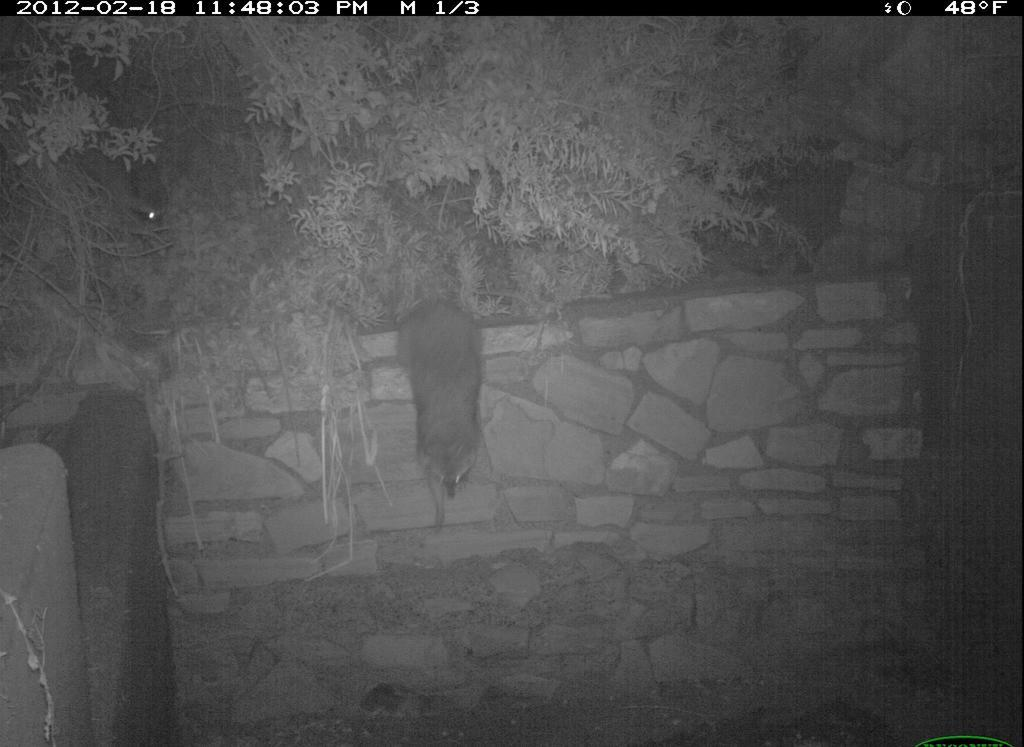raccoon: (397, 289, 492, 535), (57, 128, 181, 255)
